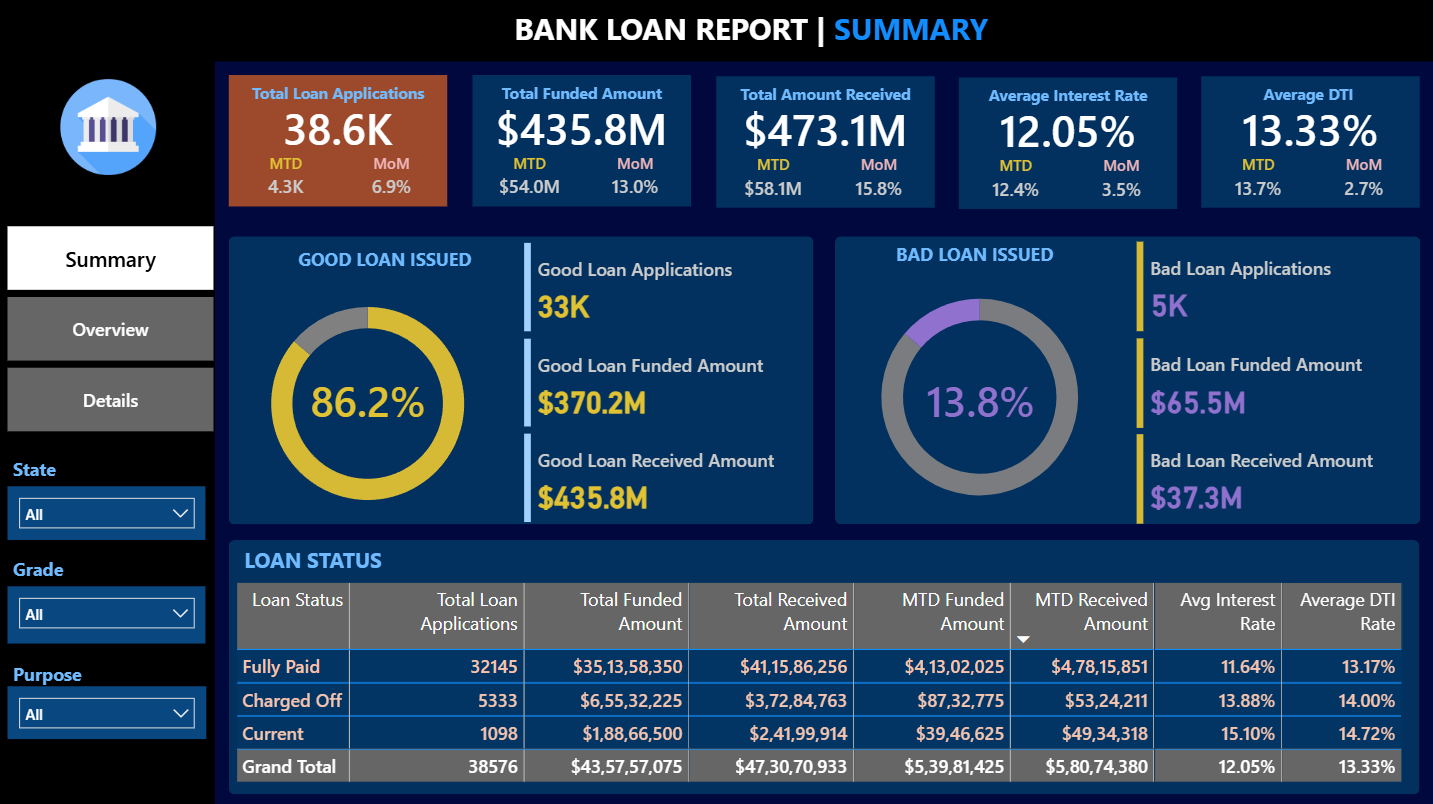

This screenshot's page, from the dashboard's own definition file:
{"tool":"powerbi","page":{"name":"Summary","canvas":[1280,720],"ordinal":0},"visuals":[{"type":"shape","box":[204.7,67.4,195.3,117.4],"z":0,"group":"g2"},{"type":"shape","box":[422,67.4,195.3,117.4],"z":0,"group":"g3"},{"type":"shape","box":[639.3,68.2,195.3,117.4],"z":0,"group":"g4"},{"type":"shape","box":[1073.3,68.2,195.3,117.4],"z":0,"group":"g6"},{"type":"shape","box":[856.3,69.4,195.3,117.4],"z":0,"group":"g5"},{"type":"shape","box":[204.6,482.2,1063.7,227.3],"z":0},{"type":"shape","box":[0,0,1280.3,55],"z":1000},{"type":"card","fields":{"Values":["bank_loan_data.Total Loan Applications"]},"box":[204.7,91.8,195.3,45.3],"z":1000,"group":"g2"},{"type":"card","fields":{"Values":["bank_loan_data.Total Funded Amount"]},"box":[422,91.8,195.3,45.3],"z":1000,"group":"g3"},{"type":"card","fields":{"Values":["bank_loan_data.Total Received Amount"]},"box":[639.3,92.6,195.3,45.3],"z":1000,"group":"g4"},{"type":"card","fields":{"Values":["bank_loan_data.Average DTI Rate"]},"box":[1073.3,92.6,195.3,45.3],"z":1000,"group":"g6"},{"type":"card","fields":{"Values":["bank_loan_data.Avg Interest Rate"]},"box":[856.3,93.8,195.3,45.3],"z":1000,"group":"g5"},{"type":"textbox","box":[204.7,68.6,195.3,32.6],"z":2000,"group":"g2"},{"type":"textbox","box":[422,68.6,195.3,32.6],"z":2000,"group":"g3"},{"type":"textbox","box":[639.3,69.4,195.3,32.6],"z":2000,"group":"g4"},{"type":"textbox","box":[1073.3,69.4,195.3,32.6],"z":2000,"group":"g6"},{"type":"textbox","box":[856.3,70.6,195.3,32.6],"z":2000,"group":"g5"},{"type":"group","id":"g1","title":"Group 2","box":[204.6,210.6,522.9,262],"z":2000},{"type":"shape","box":[0,54.9,192,665.5],"z":3000,"group":"g7"},{"type":"card","title":"MTD","fields":{"Values":["bank_loan_data.MTD Loan Applications"]},"box":[221,137.2,68.6,47.7],"z":3000,"group":"g2"},{"type":"card","title":"MTD","fields":{"Values":["bank_loan_data.MTD Total Funded Amount"]},"box":[438.3,137.2,68.6,47.7],"z":3000,"group":"g3"},{"type":"card","title":"MTD","fields":{"Values":["bank_loan_data.MTD Received Amount"]},"box":[655.6,138,68.6,47.7],"z":3000,"group":"g4"},{"type":"card","title":"MTD","fields":{"Values":["bank_loan_data.MTD DTI Rate"]},"box":[1089.6,138,68.6,47.7],"z":3000,"group":"g6"},{"type":"card","title":"MTD","fields":{"Values":["bank_loan_data.MTD Interest Rate"]},"box":[872.6,139.2,68.6,47.7],"z":3000,"group":"g5"},{"type":"shape","box":[205.1,210.6,522.4,257.5],"z":3000,"group":"g1"},{"type":"donutChart","fields":{"Category":["bank_loan_data.Good Vs Bad Loan "],"Y":["bank_loan_data.Total Loan Applications"]},"box":[204.6,247.1,248.6,225.5],"z":3500,"group":"g1"},{"type":"textbox","box":[454.7,2.3,444.2,52.3],"z":4000},{"type":"card","title":"MoM","fields":{"Values":["bank_loan_data.MoM Loan Applications"]},"box":[315.2,137.2,69.8,47.7],"z":4000,"group":"g2"},{"type":"card","title":"MoM","fields":{"Values":["bank_loan_data.MoM Funded Amount"]},"box":[532.5,137.2,69.8,47.7],"z":4000,"group":"g3"},{"type":"card","title":"MoM","fields":{"Values":["bank_loan_data.MoM Received Amount"]},"box":[749.8,138,69.8,47.7],"z":4000,"group":"g4"},{"type":"card","title":"MoM","fields":{"Values":["bank_loan_data.MoM DTI Rate"]},"box":[1183.8,138,69.8,47.7],"z":4000,"group":"g6"},{"type":"card","title":"MoM","fields":{"Values":["bank_loan_data.MoM Interest Rate"]},"box":[966.8,139.2,69.8,47.7],"z":4000,"group":"g5"},{"type":"textbox","box":[244.1,214.9,200.8,32],"z":5000,"group":"g1"},{"type":"card","fields":{"Values":["bank_loan_data.Good Loan %"]},"box":[262,335,132.8,45.5],"z":5000},{"type":"group","id":"g2","title":"Group 1","box":[204.7,67.4,195.3,117.4],"z":6000},{"type":"group","id":"g3","title":"Group 1","box":[422,67.4,195.3,117.4],"z":7000},{"type":"cardVisual","fields":{"Data":["bank_loan_data.Good Loan Applications","bank_loan_data.Good Loan Funded Amount","bank_loan_data.Good Loan Received Amount"]},"box":[464,211.3,257,259.9],"z":7000,"group":"g1"},{"type":"group","id":"g4","title":"Group 1","box":[639.3,68.2,195,117.3],"z":8000},{"type":"group","id":"g5","title":"Group 1","box":[856.3,69.4,195,117.3],"z":9000},{"type":"group","id":"g6","title":"Group 1","box":[1073.3,68.2,195,117.3],"z":10000},{"type":"shape","box":[745.4,210.6,522.9,257.2],"z":11000},{"type":"donutChart","fields":{"Category":["bank_loan_data.Good Vs Bad Loan "],"Y":["bank_loan_data.Total Loan Applications"]},"box":[750.2,240.5,250.1,229.7],"z":12000},{"type":"textbox","box":[775.3,210.6,191.4,38.3],"z":13000},{"type":"card","fields":{"Values":["bank_loan_data.Bad Loan %"]},"box":[810,335,132.8,45.5],"z":14000},{"type":"tableEx","fields":{"Values":["bank_loan_data.loan_status","bank_loan_data.Total Loan Applications","bank_loan_data.Total Funded Amount","bank_loan_data.Total Received Amount","bank_loan_data.MTD Funded Amount","bank_loan_data.MTD Received Amount","bank_loan_data.Avg Interest Rate","bank_loan_data.Average DTI Rate"]},"box":[205.5,515.9,1061.9,193.2],"z":15000},{"type":"slicer","title":"State","fields":{"Values":["bank_loan_data.address_state"]},"box":[7.2,434.3,177.1,47.9],"z":16000,"group":"g7"},{"type":"cardVisual","fields":{"Data":["bank_loan_data.Bad Loan Applications","bank_loan_data.Bad Loan Funded Amount","bank_loan_data.Bad Loan Received Amount"]},"box":[1011,210.6,257.2,262],"z":17000},{"type":"textbox","box":[213.3,482.4,147.4,41.3],"z":18000},{"type":"textbox","box":[6.7,403.1,89.3,31.3],"z":19000,"group":"g7"},{"type":"slicer","title":"State","fields":{"Values":["bank_loan_data.grade"]},"box":[7.2,524.1,177.1,51.4],"z":20000,"group":"g7"},{"type":"textbox","box":[6.7,492.4,89.3,31.3],"z":21000,"group":"g7"},{"type":"slicer","title":"State","fields":{"Values":["bank_loan_data.purpose"]},"box":[6.7,613,177.5,46.9],"z":22000,"group":"g7"},{"type":"textbox","box":[6.7,586.2,89.3,38],"z":23000,"group":"g7"},{"type":"image","box":[1.2,66.3,191.9,95.3],"z":23001,"group":"g7"},{"type":"pageNavigator","box":[7,202.3,184.9,184.9],"z":23002,"group":"g7"},{"type":"group","id":"g7","title":"Group 3","box":[0,54.9,193,665.5],"z":23003}]}

Visuals, with their boxes in screenshot pixels (x1, y1, x2, y2), scaled from the page's 1280x720 canvas onto the 1433x804 screenshot:
shape: crop(229, 75, 448, 206)
shape: crop(472, 75, 691, 206)
shape: crop(716, 76, 934, 207)
shape: crop(1202, 76, 1420, 207)
shape: crop(959, 77, 1177, 209)
shape: crop(229, 538, 1420, 792)
shape: crop(0, 0, 1432, 61)
card - bank_loan_data.Total Loan Applications: crop(229, 103, 448, 153)
card - bank_loan_data.Total Funded Amount: crop(472, 103, 691, 153)
card - bank_loan_data.Total Received Amount: crop(716, 103, 934, 154)
card - bank_loan_data.Average DTI Rate: crop(1202, 103, 1420, 154)
card - bank_loan_data.Avg Interest Rate: crop(959, 105, 1177, 155)
textbox: crop(229, 77, 448, 113)
textbox: crop(472, 77, 691, 113)
textbox: crop(716, 77, 934, 114)
textbox: crop(1202, 77, 1420, 114)
textbox: crop(959, 79, 1177, 115)
"Group 2" group: crop(229, 235, 814, 528)
shape: crop(0, 61, 215, 803)
"MTD" card: crop(247, 153, 324, 206)
"MTD" card: crop(491, 153, 567, 206)
"MTD" card: crop(734, 154, 811, 207)
"MTD" card: crop(1220, 154, 1297, 207)
"MTD" card: crop(977, 155, 1054, 209)
shape: crop(230, 235, 814, 523)
donutChart - bank_loan_data.Good Vs Bad Loan  x bank_loan_data.Total Loan Applications: crop(229, 276, 507, 528)
textbox: crop(509, 3, 1006, 61)
"MoM" card: crop(353, 153, 431, 206)
"MoM" card: crop(596, 153, 674, 206)
"MoM" card: crop(839, 154, 918, 207)
"MoM" card: crop(1325, 154, 1403, 207)
"MoM" card: crop(1082, 155, 1161, 209)
textbox: crop(273, 240, 498, 276)
card - bank_loan_data.Good Loan %: crop(293, 374, 442, 425)
"Group 1" group: crop(229, 75, 448, 206)
"Group 1" group: crop(472, 75, 691, 206)
cardVisual - bank_loan_data.Good Loan Applications x bank_loan_data.Good Loan Funded Amount: crop(519, 236, 807, 526)
"Group 1" group: crop(716, 76, 934, 207)
"Group 1" group: crop(959, 77, 1177, 208)
"Group 1" group: crop(1202, 76, 1420, 207)
shape: crop(834, 235, 1420, 522)
donutChart - bank_loan_data.Good Vs Bad Loan  x bank_loan_data.Total Loan Applications: crop(840, 269, 1120, 525)
textbox: crop(868, 235, 1082, 278)
card - bank_loan_data.Bad Loan %: crop(907, 374, 1055, 425)
tableEx - bank_loan_data.loan_status x bank_loan_data.Total Loan Applications: crop(230, 576, 1419, 792)
"State" slicer: crop(8, 485, 206, 538)
cardVisual - bank_loan_data.Bad Loan Applications x bank_loan_data.Bad Loan Funded Amount: crop(1132, 235, 1420, 528)
textbox: crop(239, 539, 404, 585)
textbox: crop(8, 450, 107, 485)
"State" slicer: crop(8, 585, 206, 643)
textbox: crop(8, 550, 107, 585)
"State" slicer: crop(8, 685, 206, 737)
textbox: crop(8, 655, 107, 697)
image: crop(1, 74, 216, 180)
pageNavigator: crop(8, 226, 215, 432)
"Group 3" group: crop(0, 61, 216, 803)
